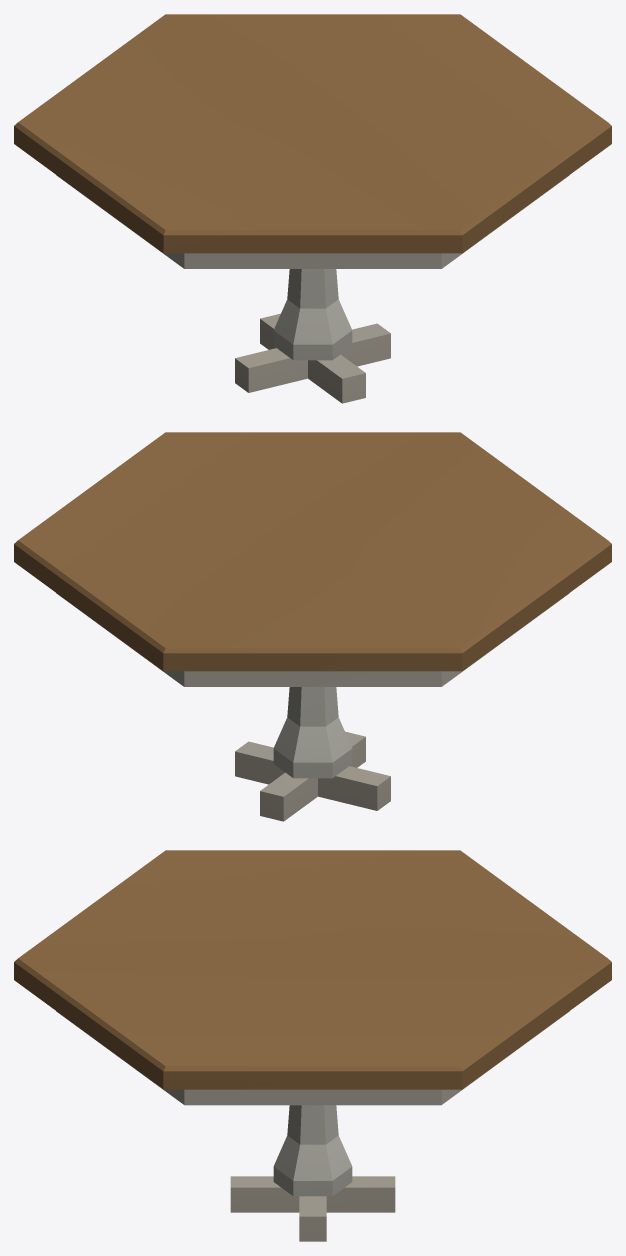
File: table.round.painted.glb
3 views of the same model, one above another, from view 1: azimuth 30°, elevation 25°; view 2: azimuth 150°, elevation 25°; view 3: azimuth 270°, elevation 25° (orthographic).
Visible parts, largest first — view 1: table_round_painted; view 2: table_round_painted; view 3: table_round_painted.
Part boxes in pixels (left/top/right/bottom): table_round_painted: left=14, top=14, right=611, bottom=403; table_round_painted: left=14, top=432, right=611, bottom=821; table_round_painted: left=14, top=850, right=611, bottom=1241.
Size of what is drawn, in the model's own units: 1.51 by 0.8 by 1.75.
